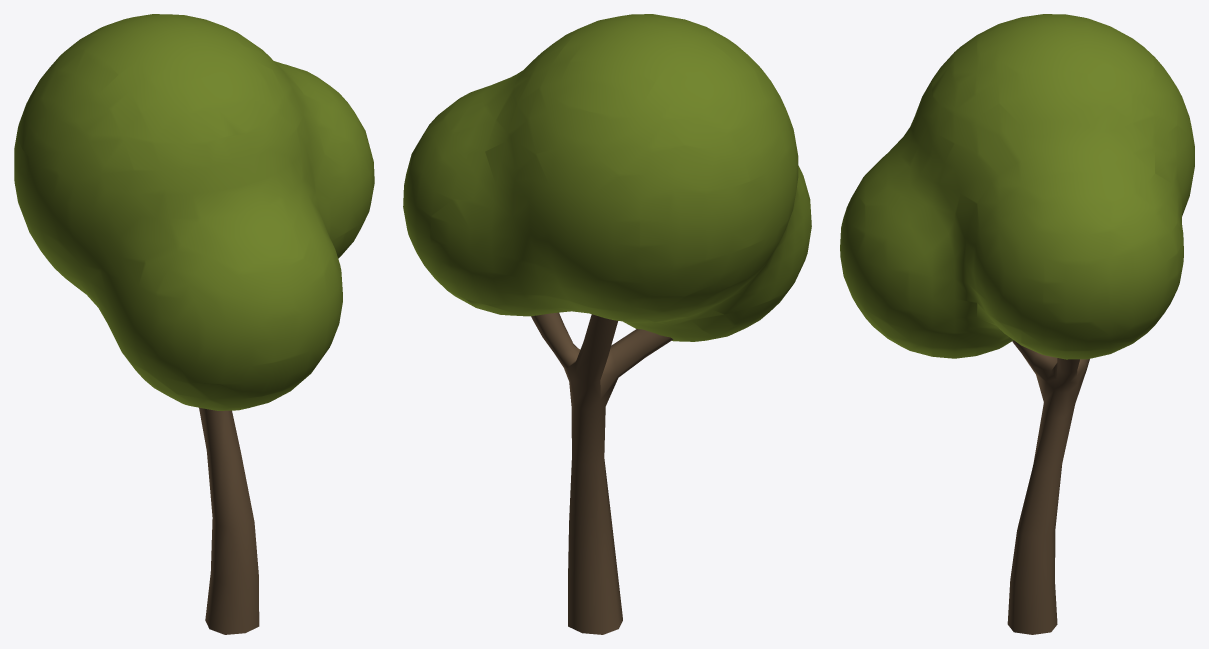
The model's file is birch_tree.glb.
The picture shows the model from 3 angles, left to right: view 1: azimuth 30°, elevation 25°; view 2: azimuth 150°, elevation 25°; view 3: azimuth 270°, elevation 25°; orthographic projection. The views are drawn at different scales.
Parts seen in each view (by area): view 1: Tree_1; view 2: Tree_1; view 3: Tree_1.
Boxes of the visible parts, x1,y1,x2,y2 form: Tree_1: [14, 14, 374, 634]; Tree_1: [403, 14, 811, 634]; Tree_1: [840, 14, 1194, 634].
Bounding box in the file's own units: 8.79 × 15 × 8.46.
